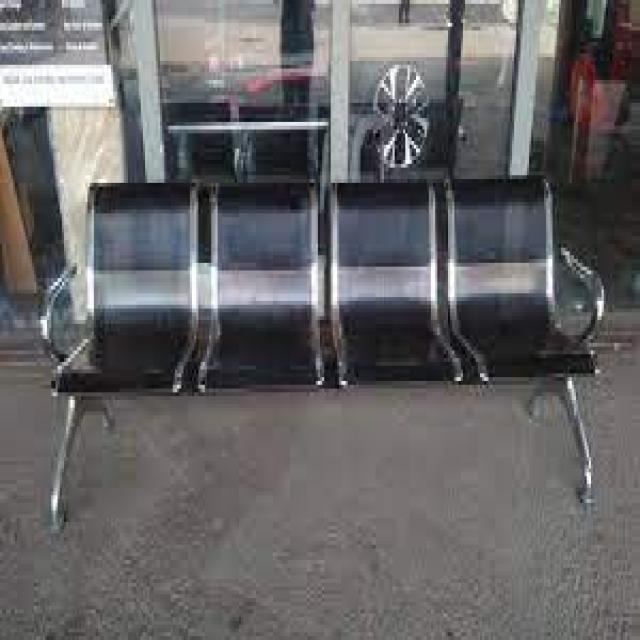chair: (39, 179, 603, 533)
